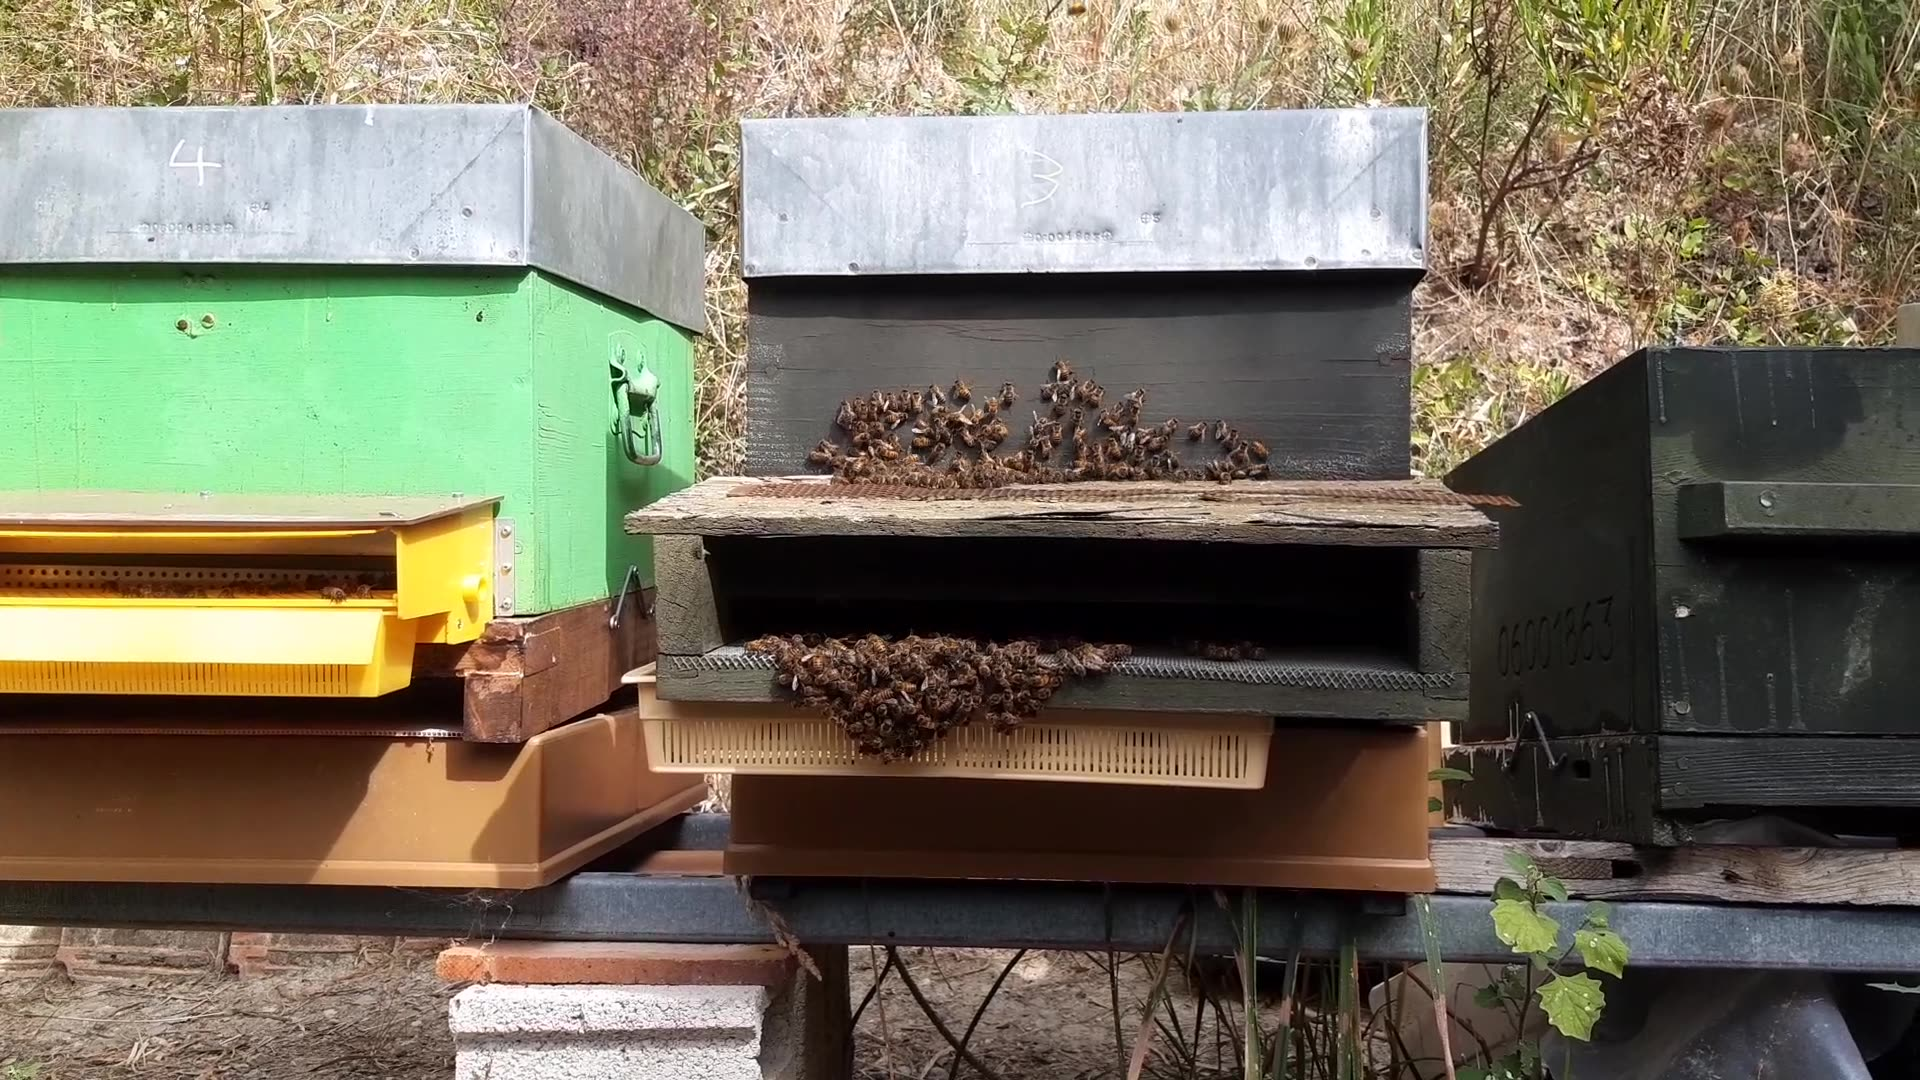bee: (848, 698, 927, 770), (1002, 636, 1105, 691), (732, 636, 818, 694), (1046, 407, 1118, 475), (952, 702, 1025, 767), (808, 632, 916, 673), (1184, 430, 1267, 483), (1145, 417, 1215, 469), (827, 405, 898, 450), (967, 446, 1030, 489), (1039, 375, 1095, 414), (942, 381, 992, 421)
